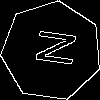N: (26, 26, 77, 68)
